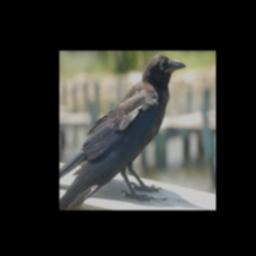Crow: (61, 54, 187, 210)
